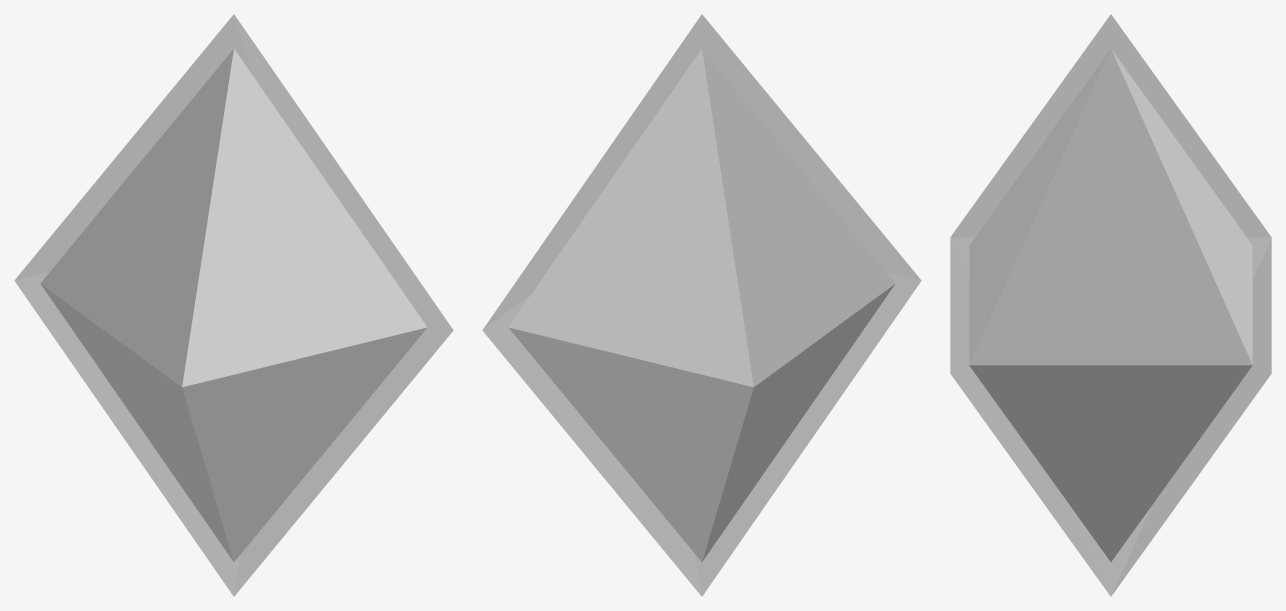
The model's file is octahedron_icon.glb.
The picture shows the model from 3 angles, left to right: view 1: azimuth 30°, elevation 25°; view 2: azimuth 150°, elevation 25°; view 3: azimuth 270°, elevation 25°; orthographic projection.
Parts seen in each view (by area): view 1: octahedron; view 2: octahedron; view 3: octahedron.
Part boxes in pixels (x1=…): octahedron: x1=14, y1=14, x2=453, y2=596; octahedron: x1=482, y1=14, x2=921, y2=596; octahedron: x1=950, y1=14, x2=1271, y2=596.
Size of the model in its own units: 1.28 by 2.55 by 1.28.
2 materials, 1 textured.
